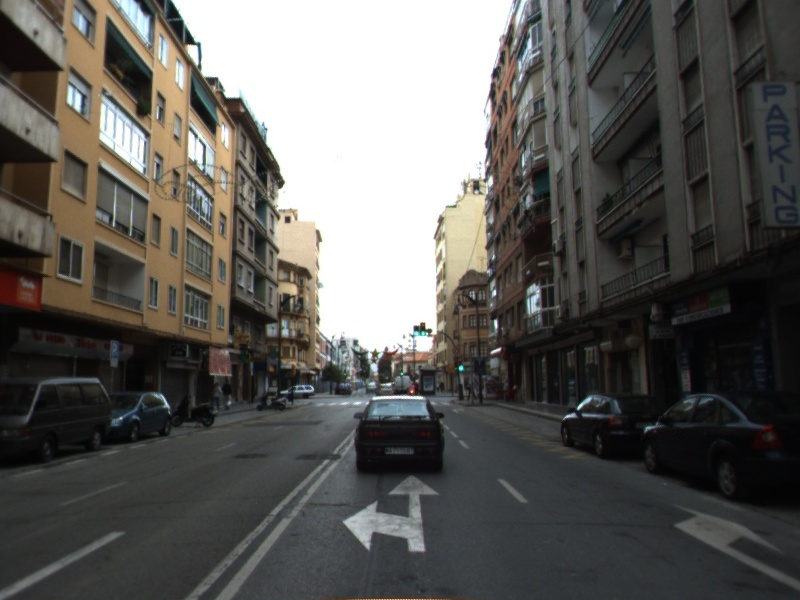RIGHT: (671, 503, 800, 592)
STRAIGHT_LEFT: (341, 473, 441, 553)
